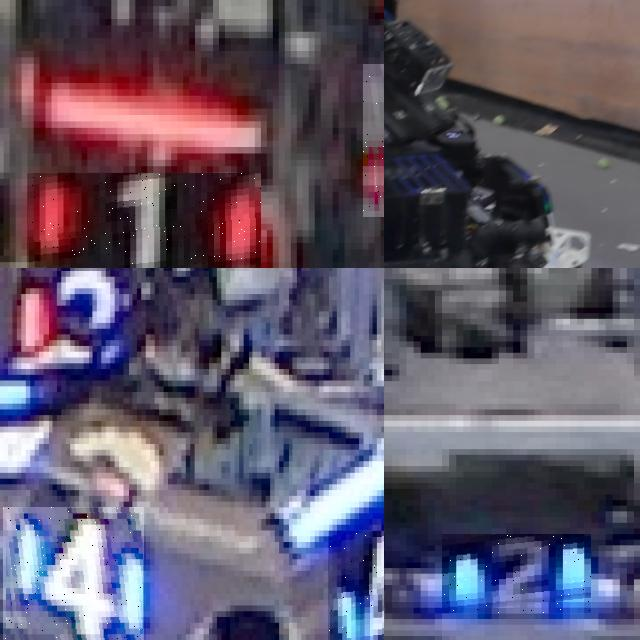B2: (442, 534, 591, 613)
B4: (4, 507, 146, 640), (327, 530, 384, 640)
R1: (27, 172, 260, 268)
